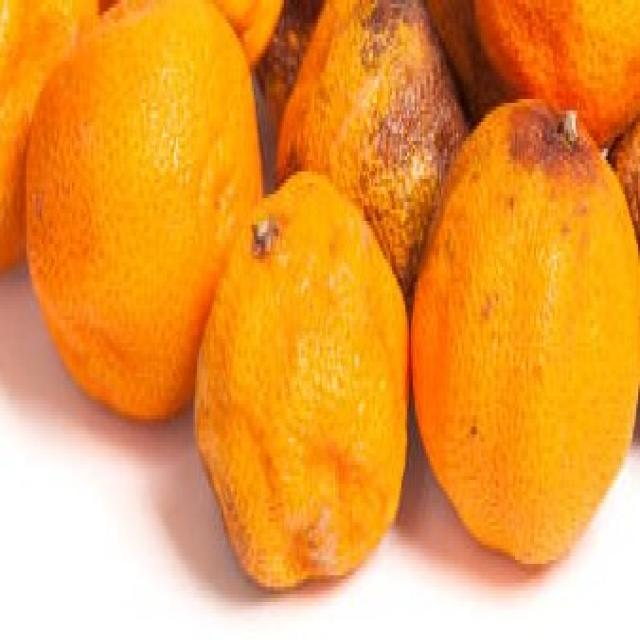overripe: (407, 88, 640, 572), (22, 2, 260, 421), (192, 167, 411, 599)
